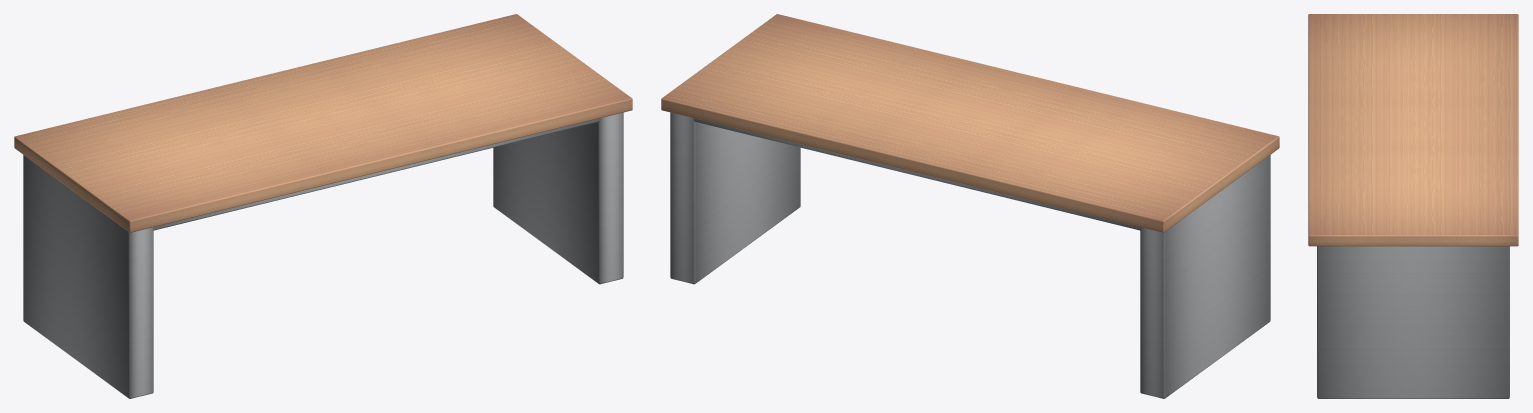
The model's file is table.fbx.
3 views of the same model, side by side, from view 1: azimuth 30°, elevation 25°; view 2: azimuth 150°, elevation 25°; view 3: azimuth 270°, elevation 25° (orthographic). The views are drawn at different scales.
Visible parts, largest first — view 1: Cube_6, Cube_1, Cube_3, Cube_5; view 2: Cube_6, Cube_1, Cube_3, Cube_5; view 3: Cube_6, Cube_3.
Part boxes in pixels (bbox=[...]): Cube_6: bbox=[14, 14, 632, 232]; Cube_1: bbox=[23, 155, 153, 398]; Cube_3: bbox=[493, 112, 623, 284]; Cube_5: bbox=[153, 118, 600, 230]; Cube_6: bbox=[661, 14, 1279, 232]; Cube_1: bbox=[1140, 155, 1270, 398]; Cube_3: bbox=[670, 112, 800, 284]; Cube_5: bbox=[693, 118, 1140, 230]; Cube_6: bbox=[1308, 14, 1518, 246]; Cube_3: bbox=[1317, 246, 1509, 398].
Bounding box in the file's own units: 300 × 104 × 120.
Materials: 2 (2 with a texture image).
